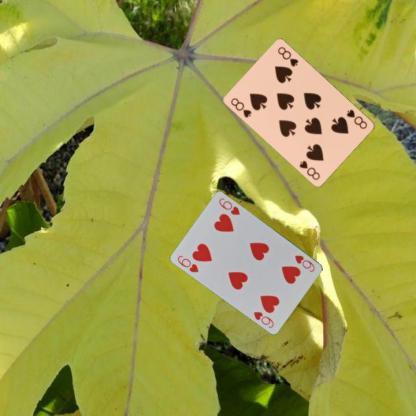6h: (175, 252, 200, 274), (292, 252, 316, 274)
8s: (228, 95, 253, 119), (344, 107, 369, 130)
